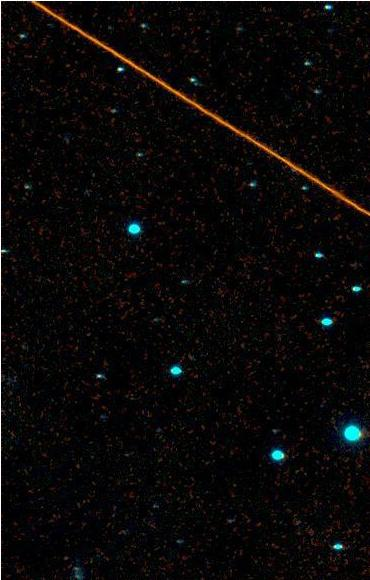star: (235, 183, 265, 213)
